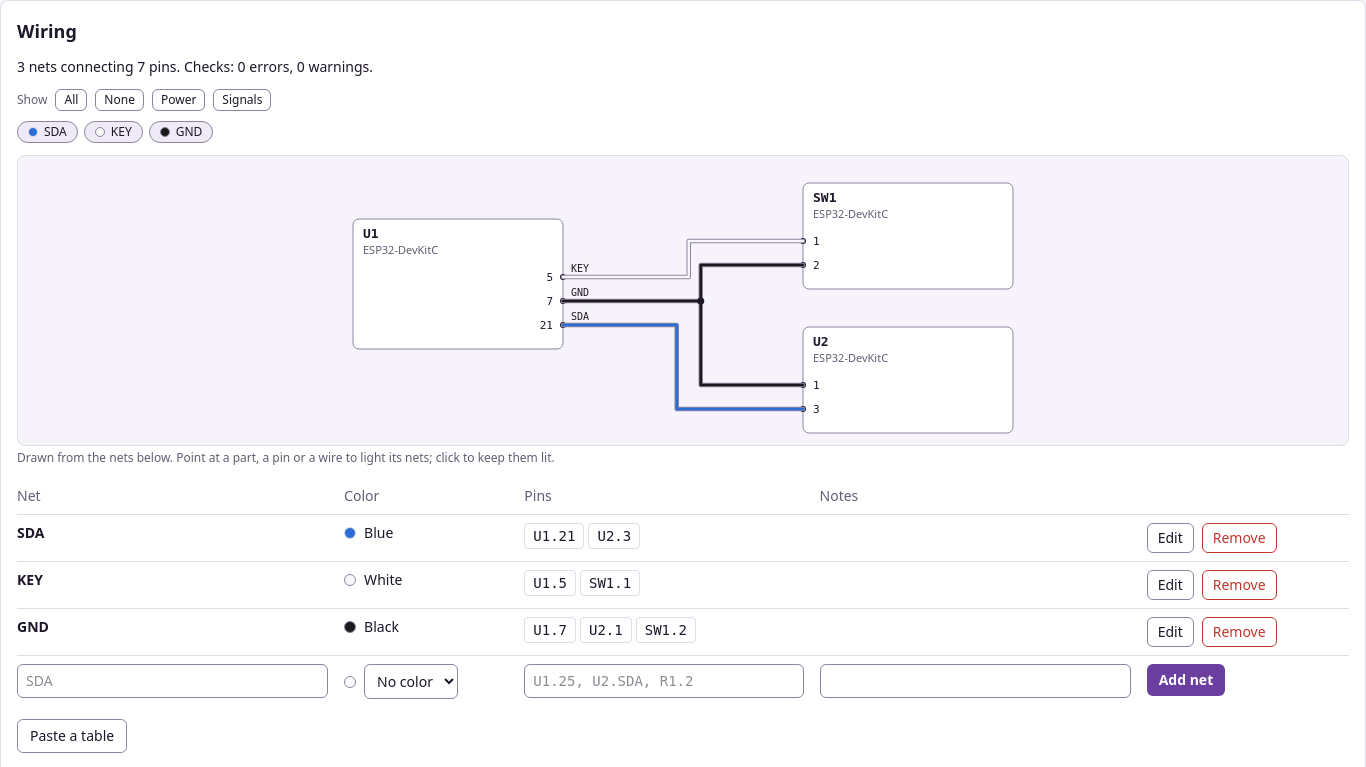
Test: the wiring's diagram, toggles and table together › offers all, none, the power nets and the signals
Click the button "Signals" at (242, 100), box [213,89,272,111]
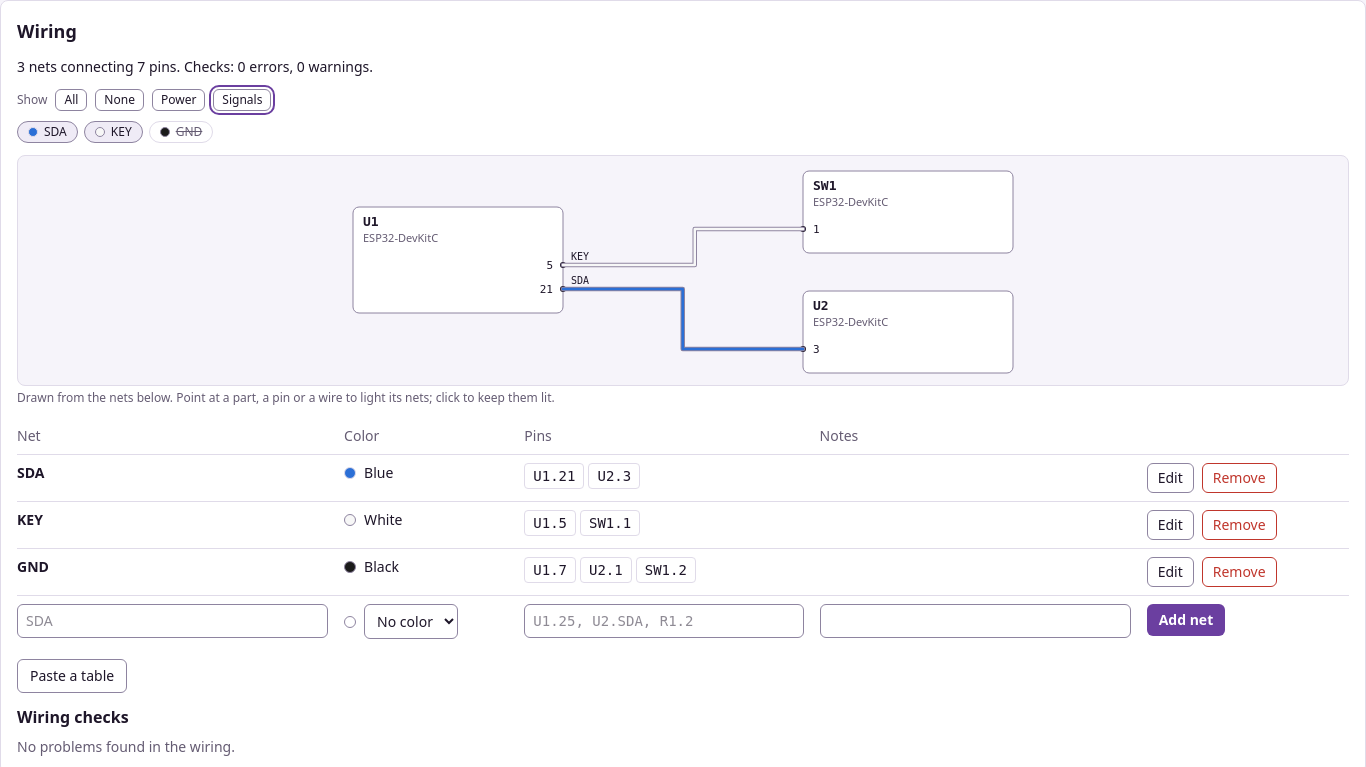
Click the button "Power" at (179, 100), box [152,89,205,111]
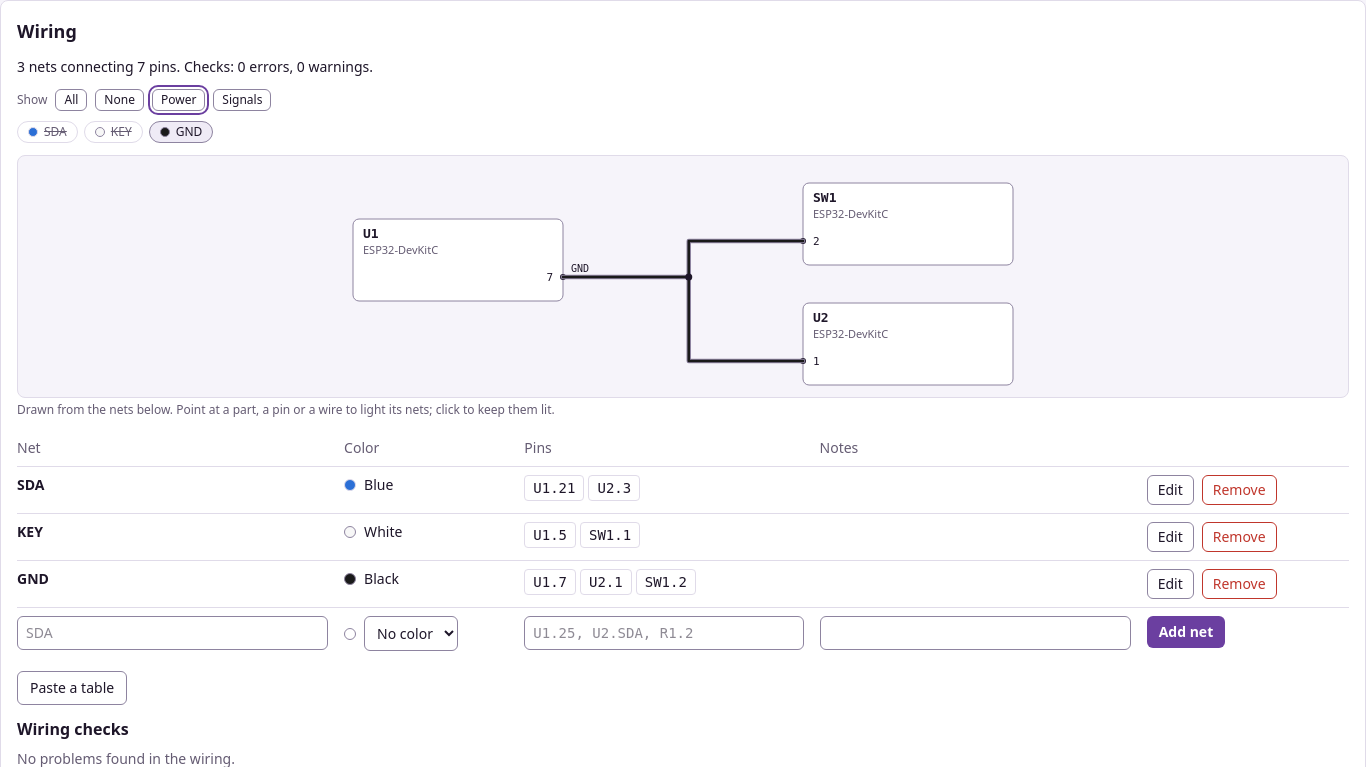
Check: the picture named "1 nets between 3 parts" is shown, box [341,156,1025,397]
Click the button "None" at (120, 100), box [95,89,144,111]
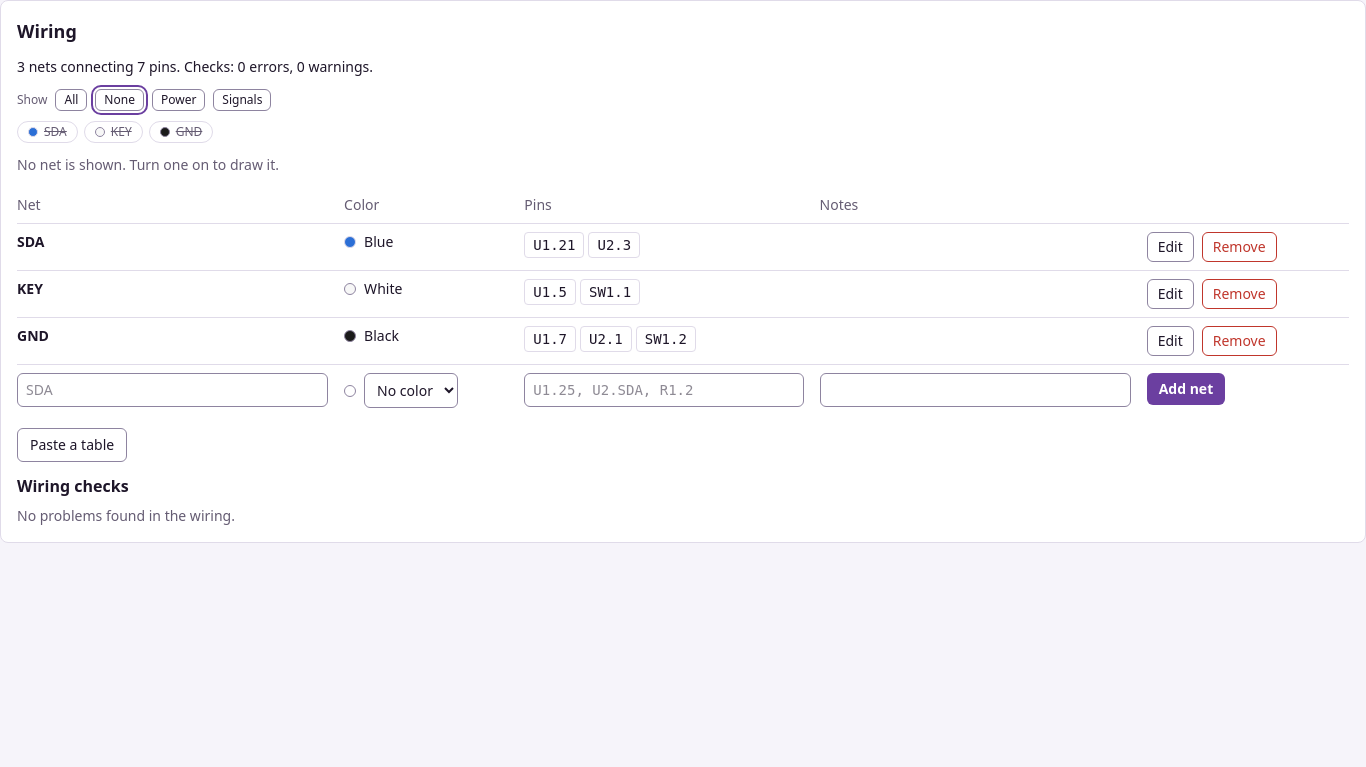
Check: the text "No net is shown. Turn one on to draw it." is shown, box [17,155,279,174]
Check: the picture is gone
Click the button "All" at (71, 100), box [56,89,87,111]
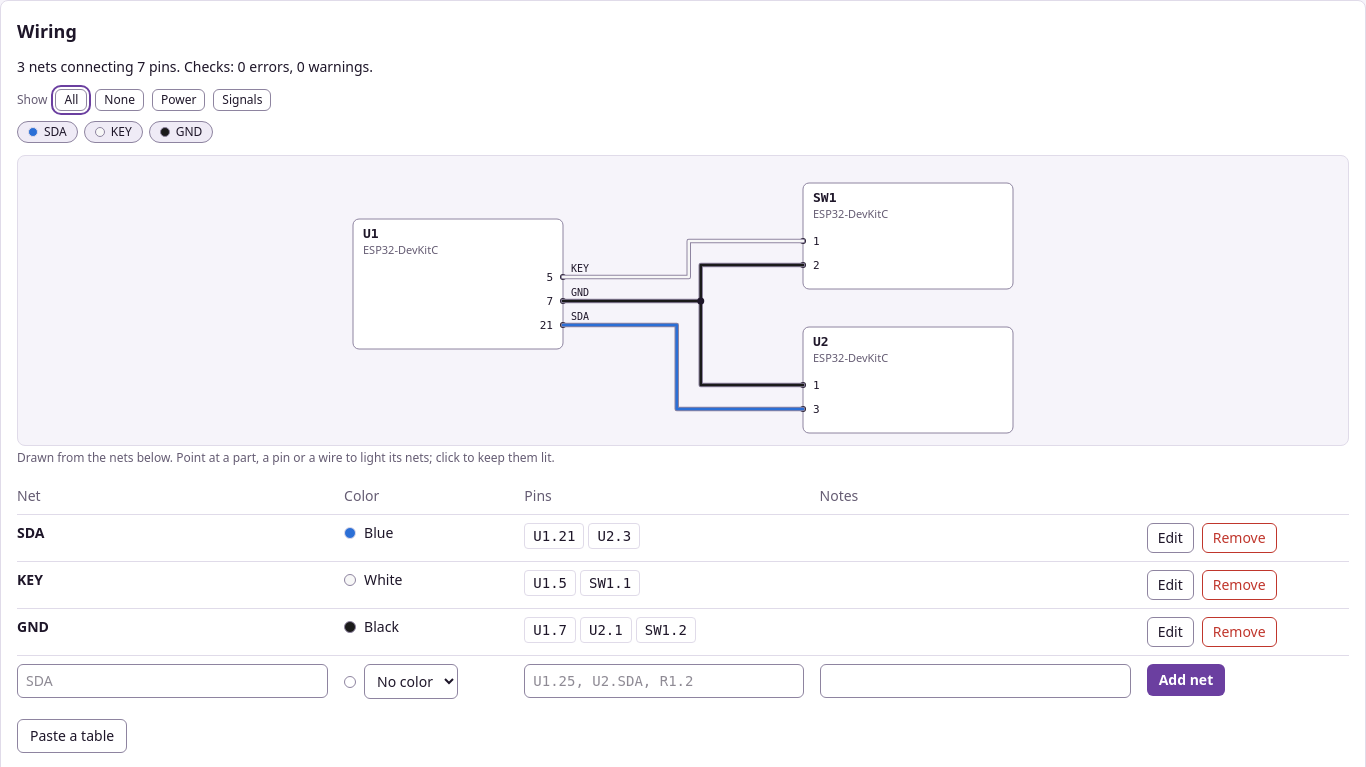
Check: the picture named "3 nets between 3 parts" is shown, box [341,156,1025,445]
